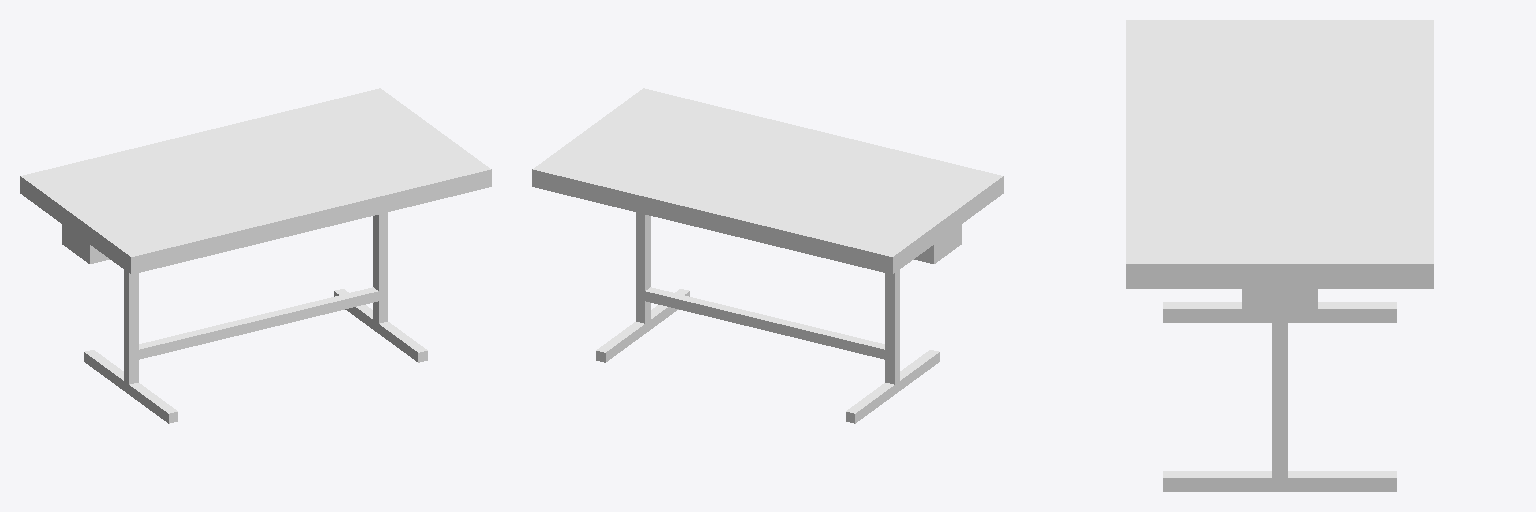
robot.urdf — mk_table:
<robot
  name="mk_table">
  <link
    name="base_link">
    <inertial>
      <origin
        xyz="-0.54 -2.3654E-15 0.67834"
        rpy="0 0 0" />
      <mass
        value="33.097" />
      <inertia
        ixx="2.1423"
        ixy="1.5272E-15"
        ixz="-2.4586E-15"
        iyy="7.4107"
        iyz="4.3591E-15"
        izz="8.3744" />
    </inertial>
    <visual>
      <origin
        xyz="0 0 0"
        rpy="0 0 0" />
      <geometry>
        <mesh
          filename="package://waiter_bot/bu_world/mk_table/meshes/dae/mk_table.dae" />
      </geometry>
      <material
        name="">
        <color
          rgba="1 1 1 1" />
      </material>
    </visual>
    <collision>
      <origin
        xyz="0 0 0"
        rpy="0 0 0" />
      <geometry>
        <mesh
          filename="package://waiter_bot/bu_world/mk_table/meshes/base_link.STL" />
      </geometry>
    </collision>
  </link>
</robot>

--- What the picture shows (computed from the rendered views, not written in the file) ---
3 views of the same robot in one strip: view 1: azimuth 30°, elevation 25°; view 2: azimuth 150°, elevation 25°; view 3: azimuth 270°, elevation 25° (orthographic).
Model mk_table with 1 links and 0 joints (none), rooted at base_link, posed every joint at zero.
Links seen in each view (by area): view 1: base_link; view 2: base_link; view 3: base_link.
Link boxes in pixels (x1,y1,x2,y2): base_link: (20, 88, 491, 423); base_link: (532, 88, 1003, 423); base_link: (1126, 20, 1433, 491).
Bounding box of the posed robot: 1.5 × 0.8 × 0.75 m (x, y, z).
Meshes: 1 distinct files referenced, 1 mesh visuals loaded (1 Collada DAE).